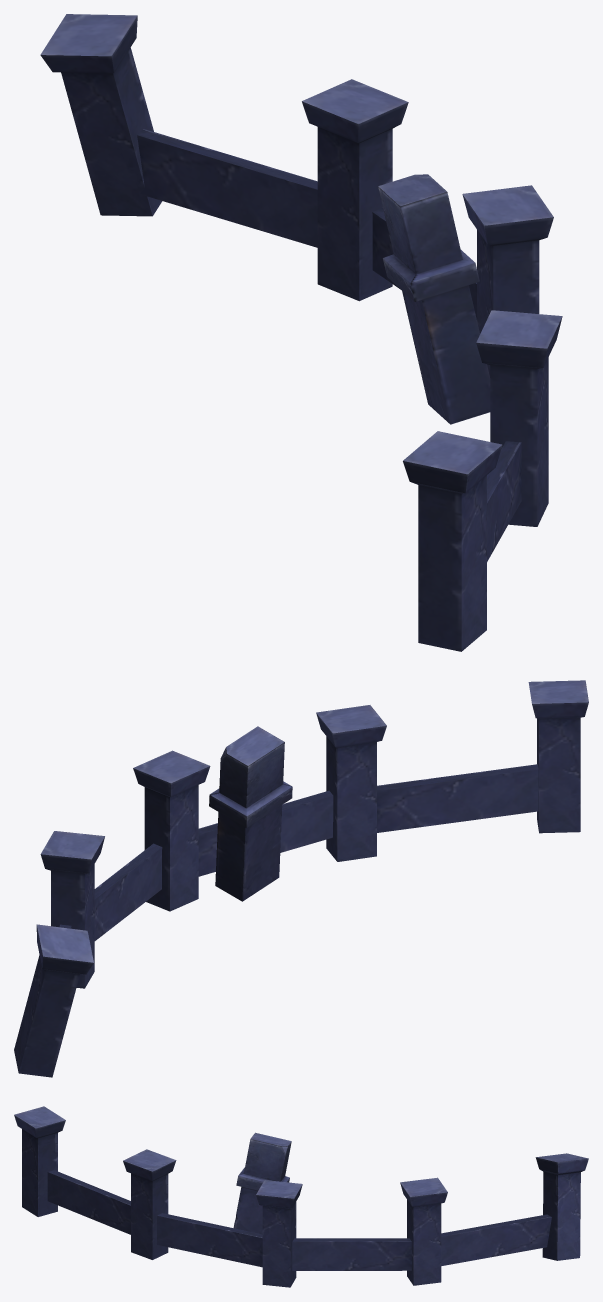
The model's file is Area07_14.fbx.
3 views of the same model, one above another, from view 1: azimuth 30°, elevation 25°; view 2: azimuth 150°, elevation 25°; view 3: azimuth 270°, elevation 25° (orthographic). The views are drawn at different scales.
Parts seen in each view (by area): view 1: Area07_14; view 2: Area07_14; view 3: Area07_14.
Boxes of the visible parts, left/top/right/bottom form: Area07_14: left=40, top=14, right=562, bottom=651; Area07_14: left=14, top=680, right=588, bottom=1077; Area07_14: left=14, top=1106, right=588, bottom=1287.
Size of the model in its own units: 1508 by 937 by 3959.
